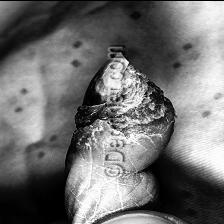Non-Cancerous Skin Condition: (121, 59, 168, 200), (68, 61, 106, 158)
